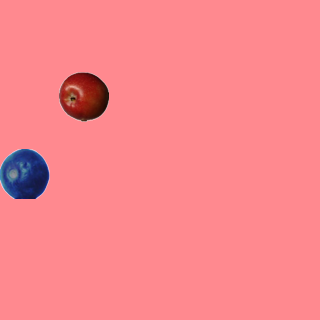Apple Braeburn: (58, 71, 108, 121)
Huckleberry: (0, 148, 49, 198)
